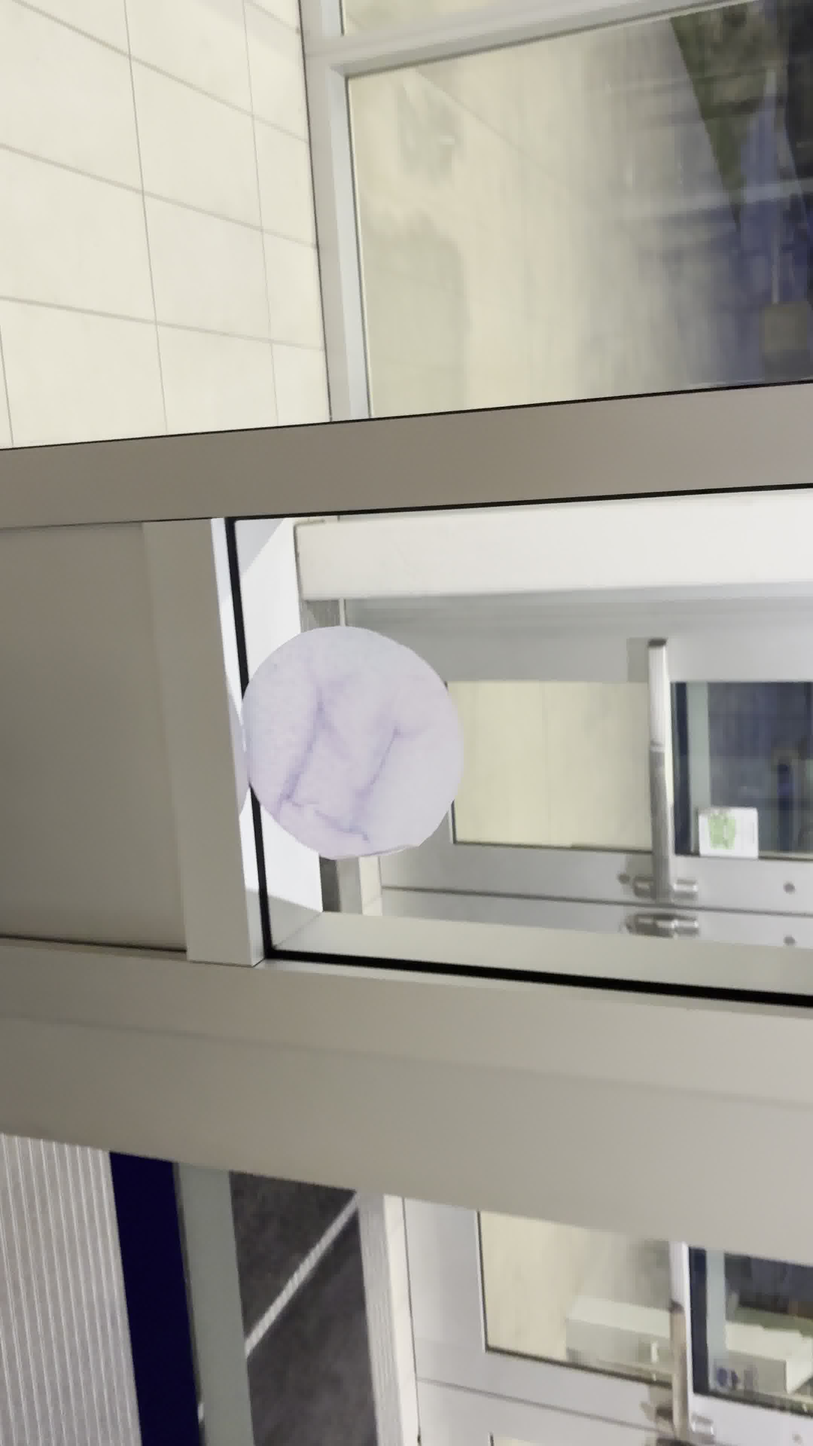Target: (237, 623, 470, 866)
